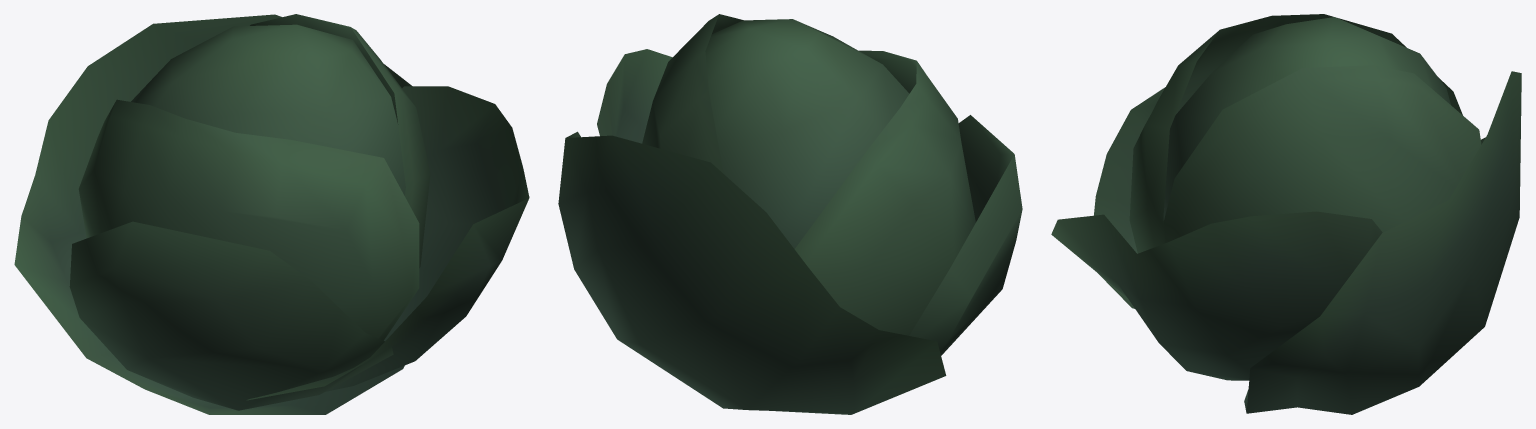
The model's file is consumables-vegetables-cabbage_v2.glb.
3 renders of one model, left to right at view 1: azimuth 30°, elevation 25°; view 2: azimuth 150°, elevation 25°; view 3: azimuth 270°, elevation 25°, orthographic.
Parts seen in each view (by area): view 1: Cabbage_v2; view 2: Cabbage_v2; view 3: Cabbage_v2.
Boxes of the visible parts, x1,y1,x2,y2 form: Cabbage_v2: [14, 14, 529, 414]; Cabbage_v2: [558, 14, 1022, 414]; Cabbage_v2: [1051, 14, 1521, 414].
Size of the model in its own units: 0.2597 by 0.2285 by 0.2633.
